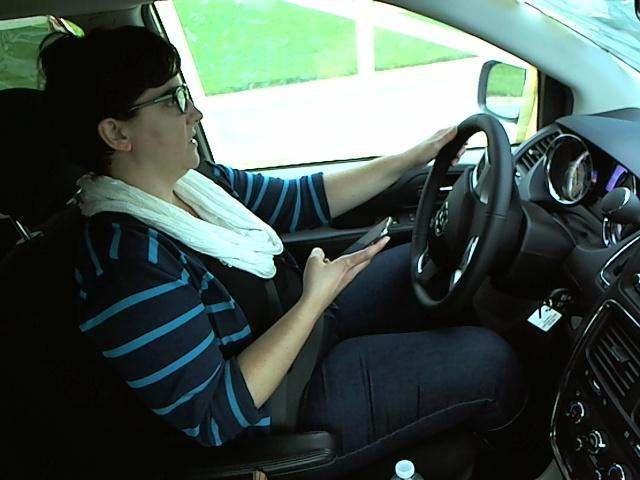PhoneUse: (315, 210, 406, 271)
